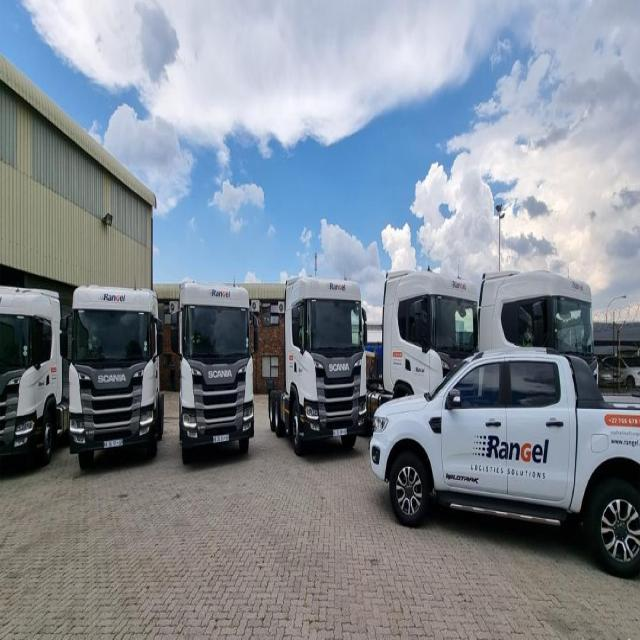Heavy Duty Truck: (268, 272, 368, 458), (67, 283, 164, 471), (174, 284, 256, 467), (1, 287, 62, 473), (482, 266, 599, 360), (386, 268, 476, 382)
Pickup Trucks: (370, 350, 638, 580)
